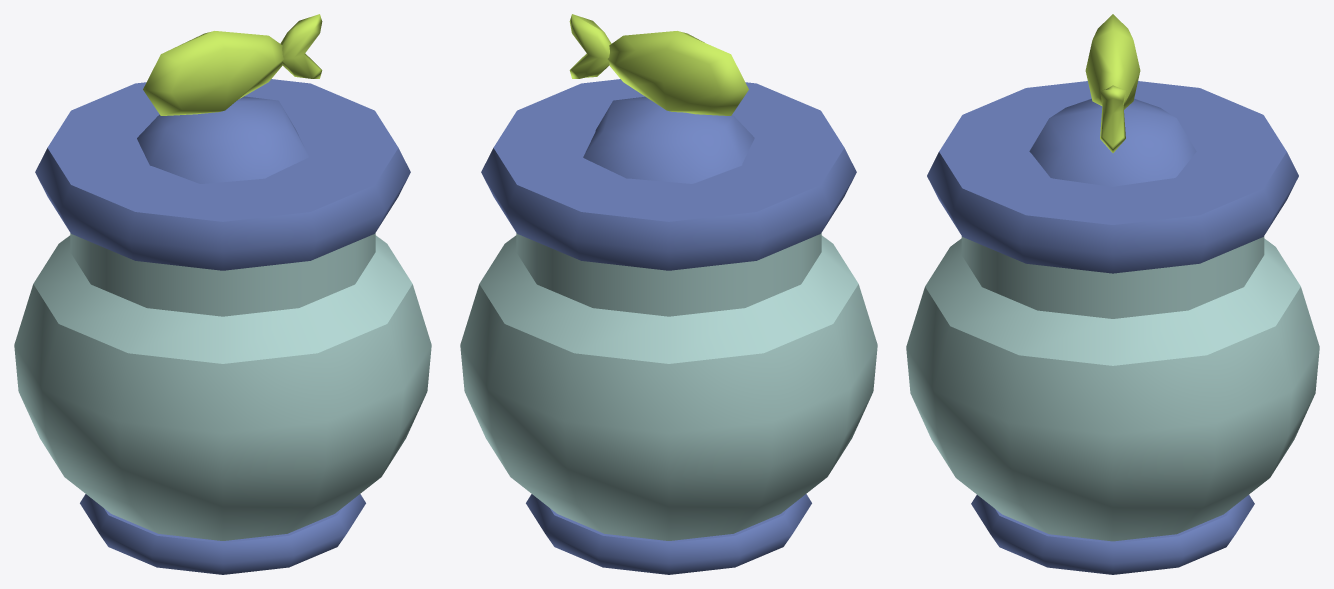
The model's file is Asset_GlowfishOil.fbx.
The picture shows the model from 3 angles, left to right: view 1: azimuth 30°, elevation 25°; view 2: azimuth 150°, elevation 25°; view 3: azimuth 270°, elevation 25°; orthographic projection.
Parts seen in each view (by area): view 1: Asset_GlowfishOil; view 2: Asset_GlowfishOil; view 3: Asset_GlowfishOil.
Boxes of the visible parts, <box> form: Asset_GlowfishOil: <box>14,14,431,574</box>; Asset_GlowfishOil: <box>460,14,877,574</box>; Asset_GlowfishOil: <box>906,14,1319,574</box>.
Size of the model in its own units: 30.47 by 39.48 by 30.47.
